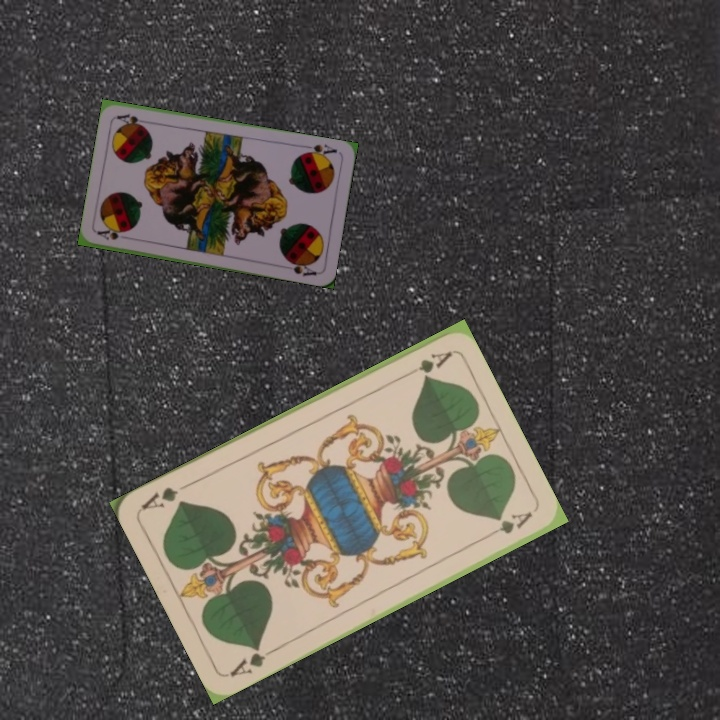GA: (225, 642, 279, 680), (398, 347, 454, 381)
SA: (299, 140, 339, 161), (94, 225, 128, 243)
